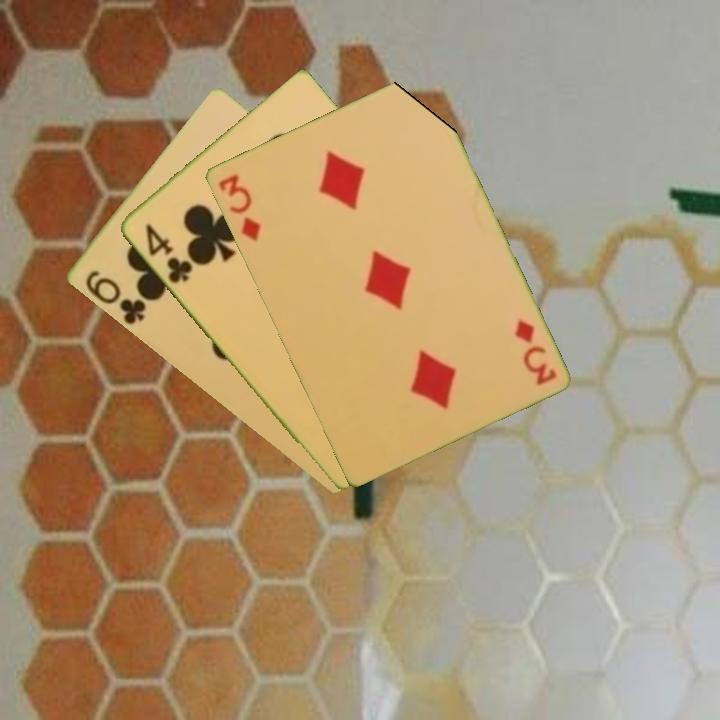3d: (214, 170, 264, 244), (510, 316, 559, 388)
4c: (141, 220, 195, 287)
6c: (81, 266, 148, 328)
